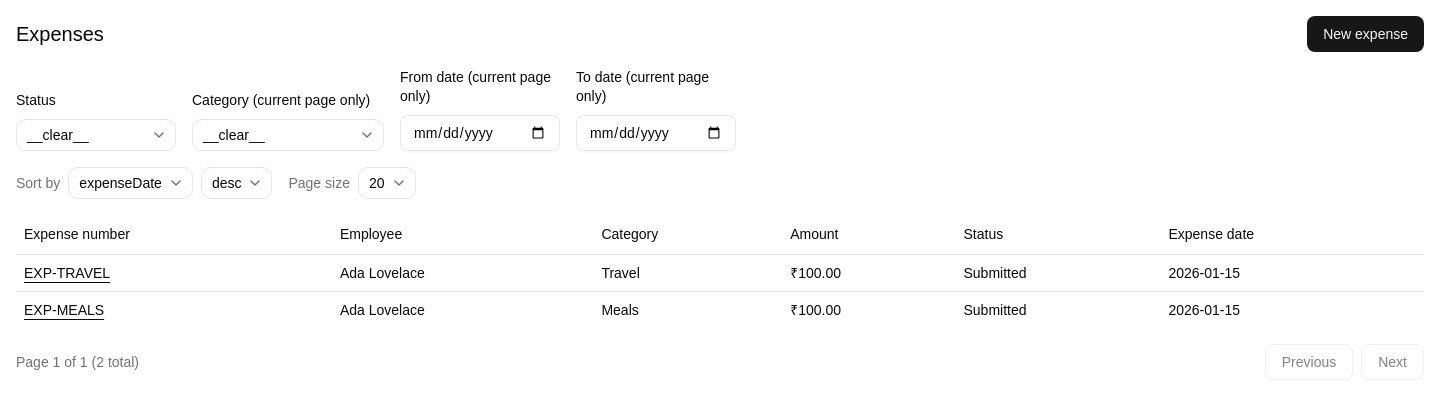
Scenario: ExpenseListPage › narrows to the current page when a category filter is applied
This screenshot has width=1440, height=397.
Expected: the link "EXP-TRAVEL" is shown, [24,265,110,281]
Click the dropdown named "Category (current page only)": click(288, 134) [192,118,384,150]
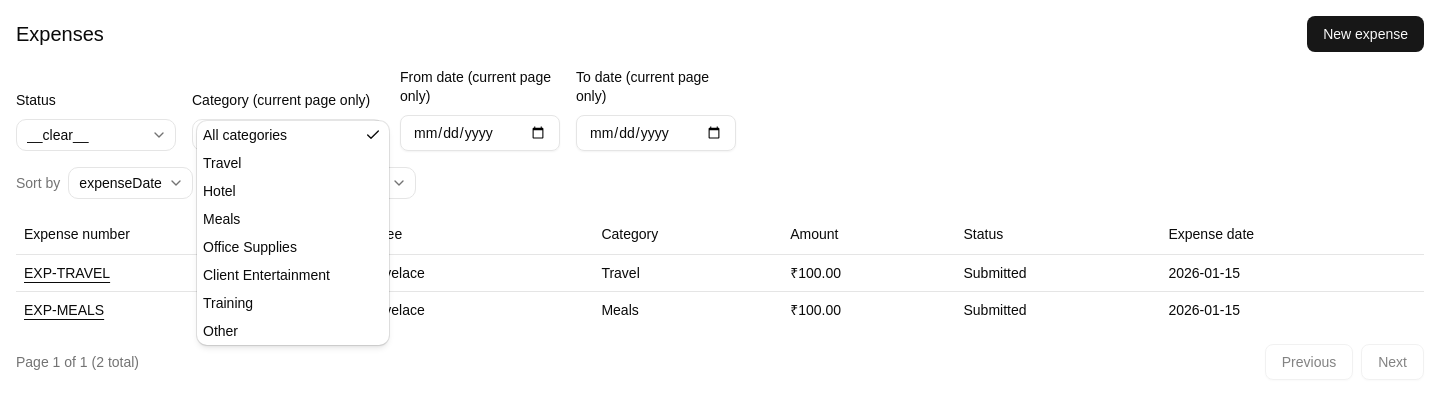
Click the option "Travel": click(222, 162) [203,154,241,170]
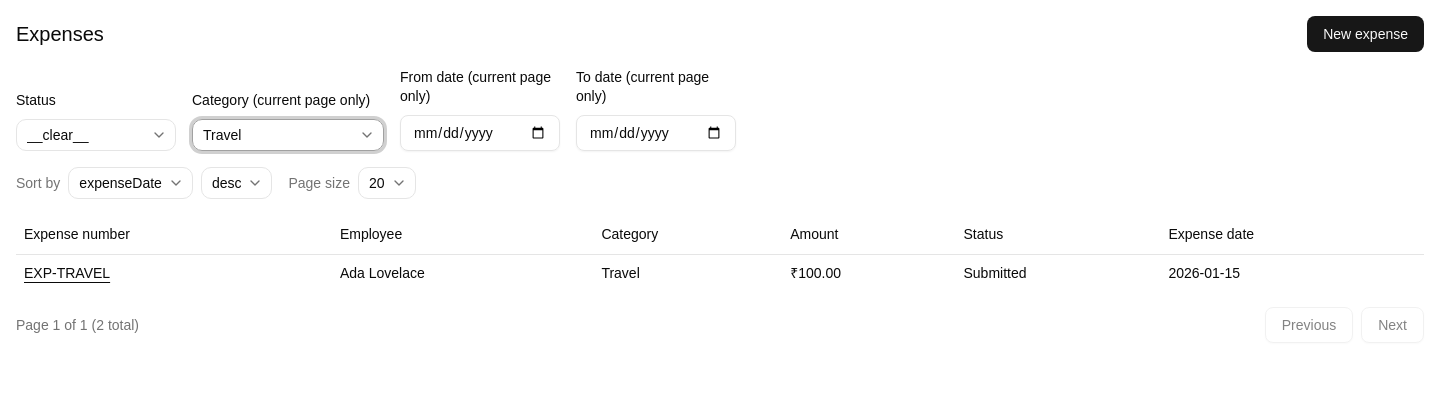
Expected: the link "EXP-TRAVEL" is shown, [24,265,110,281]
Expected: the link "EXP-MEALS" is gone
